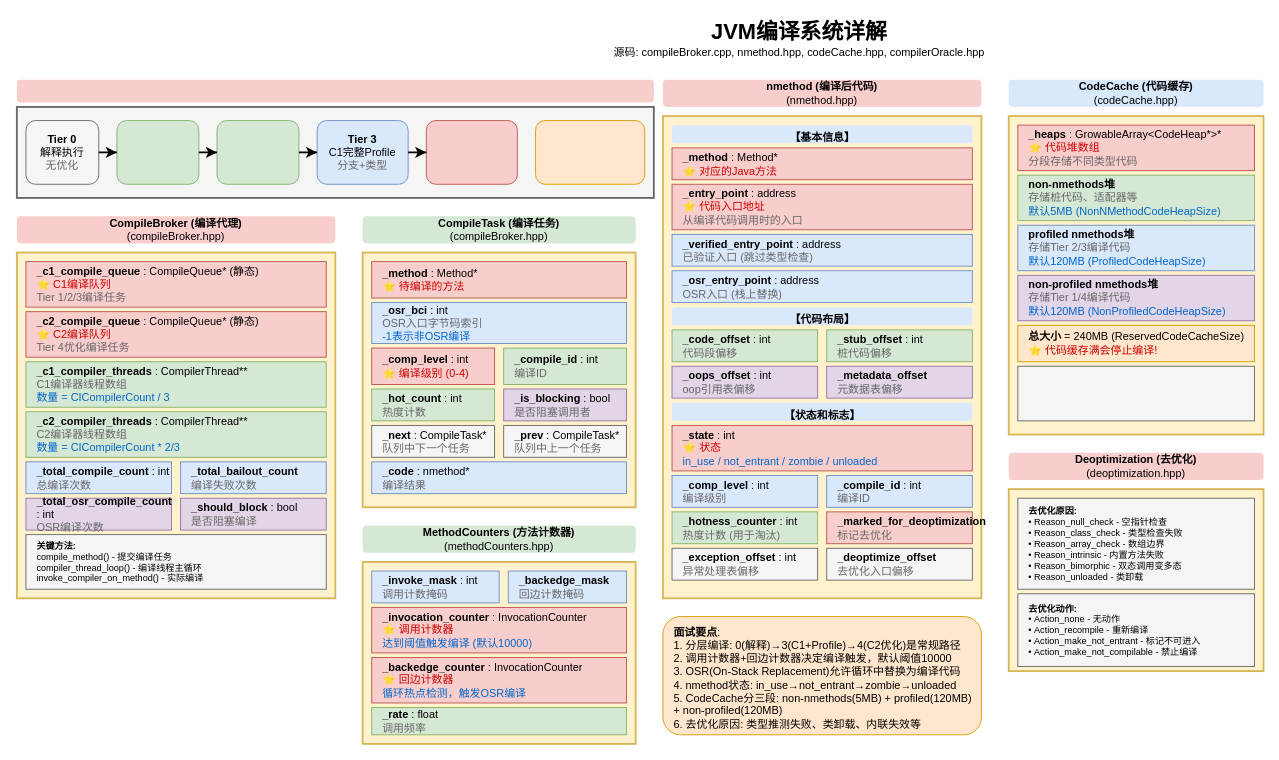
This 1279x760 diagram has some shape labels left out. Here are the shapes that lost their labels. From the top down, the centre of each, then its label:
At [334,90]: "分层编译 (Tiered Compilation)".
At [157,152]: "Tier 1 C1简单编译 无Profile".
At [257,152]: "Tier 2 C1受限Profile 调用计数".
At [471,152]: "Tier 4 C2优化编译 最高性能".
At [590,152]: "典型路径: 0 → 3 → 4 (常规) 0 → 2 → 3 → 4 (C2繁忙) 0 → 3 → 1 (简单方法)".
At [1135,393]: "关键方法: allocate() - 分配代码空间 find_blob() - 查找代码块 mark_for_deoptimization() - 标记去优化".
